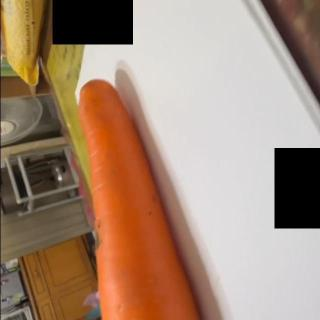carrot: (75, 79, 204, 320)
